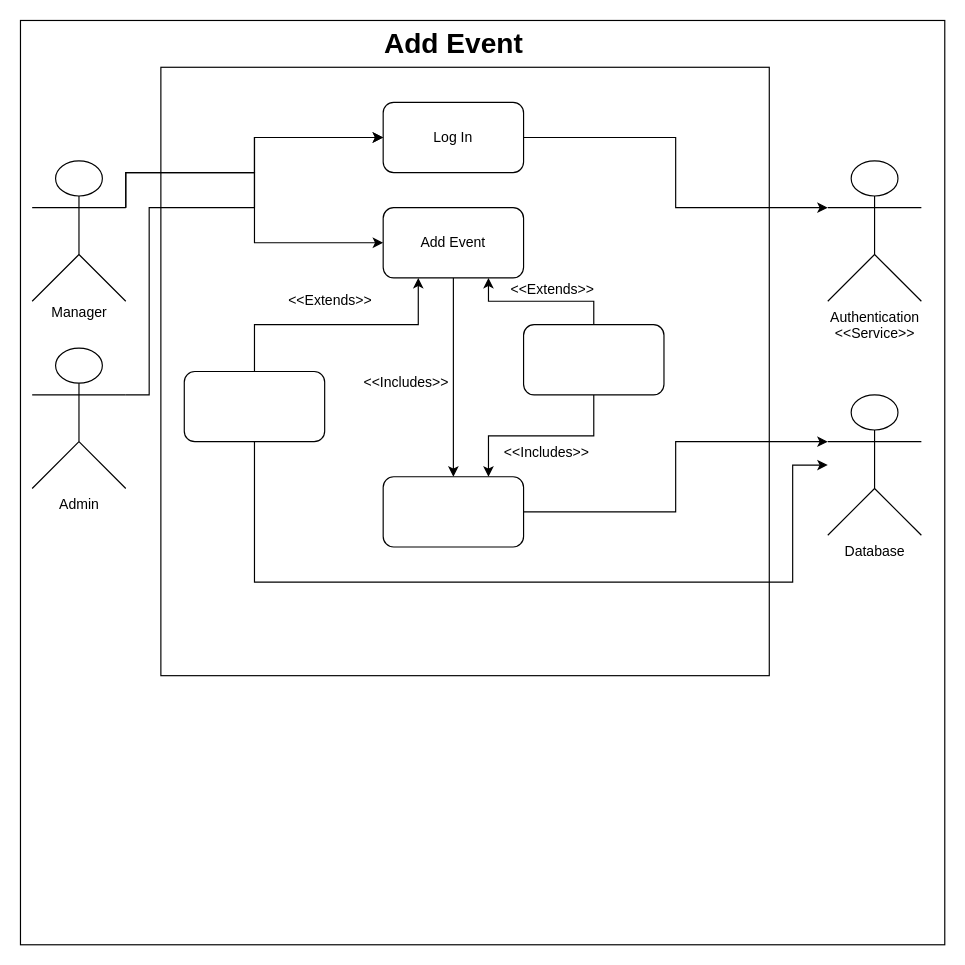
The diagram is 965 pixels wide and 965 high, and some of its shapes have lost their labels. Here are the shapes that lost their labels. From the top down, the box of each, then its label:
(522, 324, 664, 395): Edit event
(183, 370, 325, 442): Cancel event
(382, 476, 524, 547): Save Event
